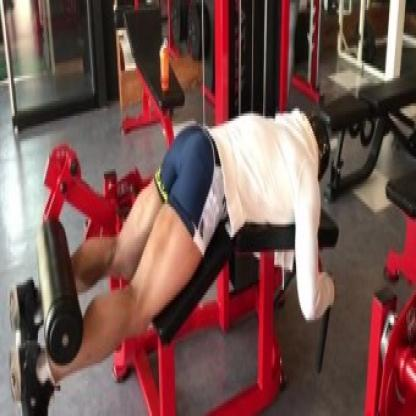reg curl machine: (4, 0, 346, 416)
